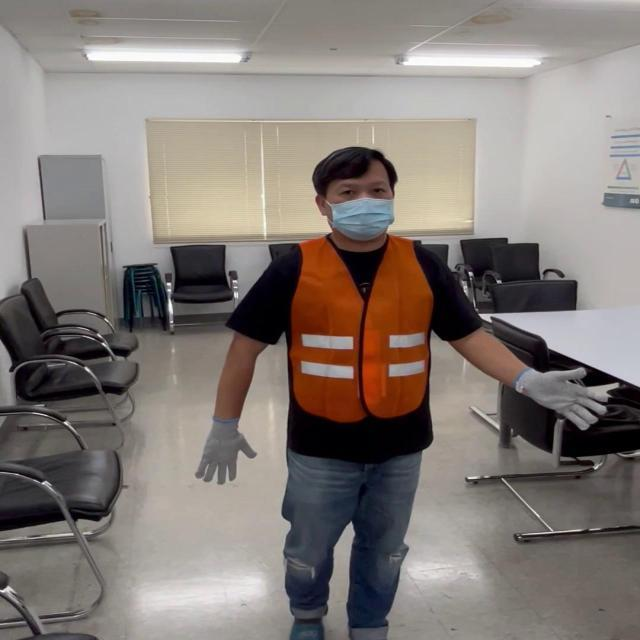gloved_hand: (508, 351, 609, 433), (194, 412, 261, 487)
